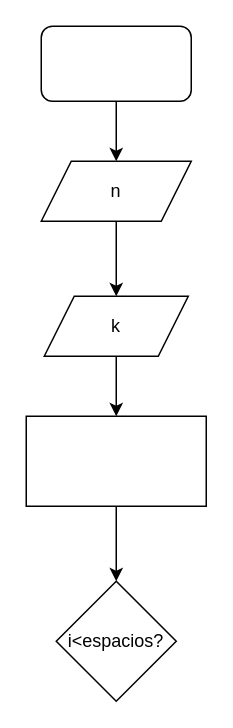
The diagram is 233 pixels wide and 728 high, and some of its shapes have lost their labels. Here are the shapes that lost their labels. From the top down, the centre of each, then its label:
At (x=115, y=63): "INICIO".
At (x=115, y=460): "i=0 espacios=(n-1)*3".
